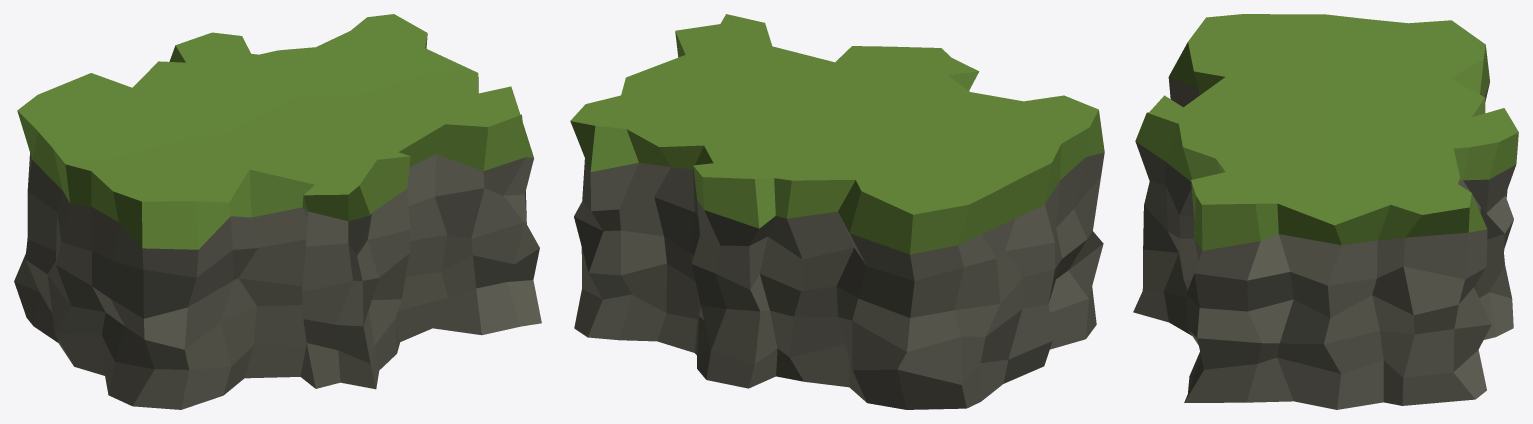
Rendered from Rock.fbx.
The picture shows the model from 3 angles, left to right: view 1: azimuth 30°, elevation 25°; view 2: azimuth 150°, elevation 25°; view 3: azimuth 270°, elevation 25°; orthographic projection. The views are drawn at different scales.
Visible parts, largest first — view 1: Plane.001; view 2: Plane.001; view 3: Plane.001.
Boxes of the visible parts, <box> form: Plane.001: <box>14,14,541,409</box>; Plane.001: <box>570,14,1104,409</box>; Plane.001: <box>1133,14,1518,409</box>.
Size of the model in its own units: 2002 by 937 by 1608.
